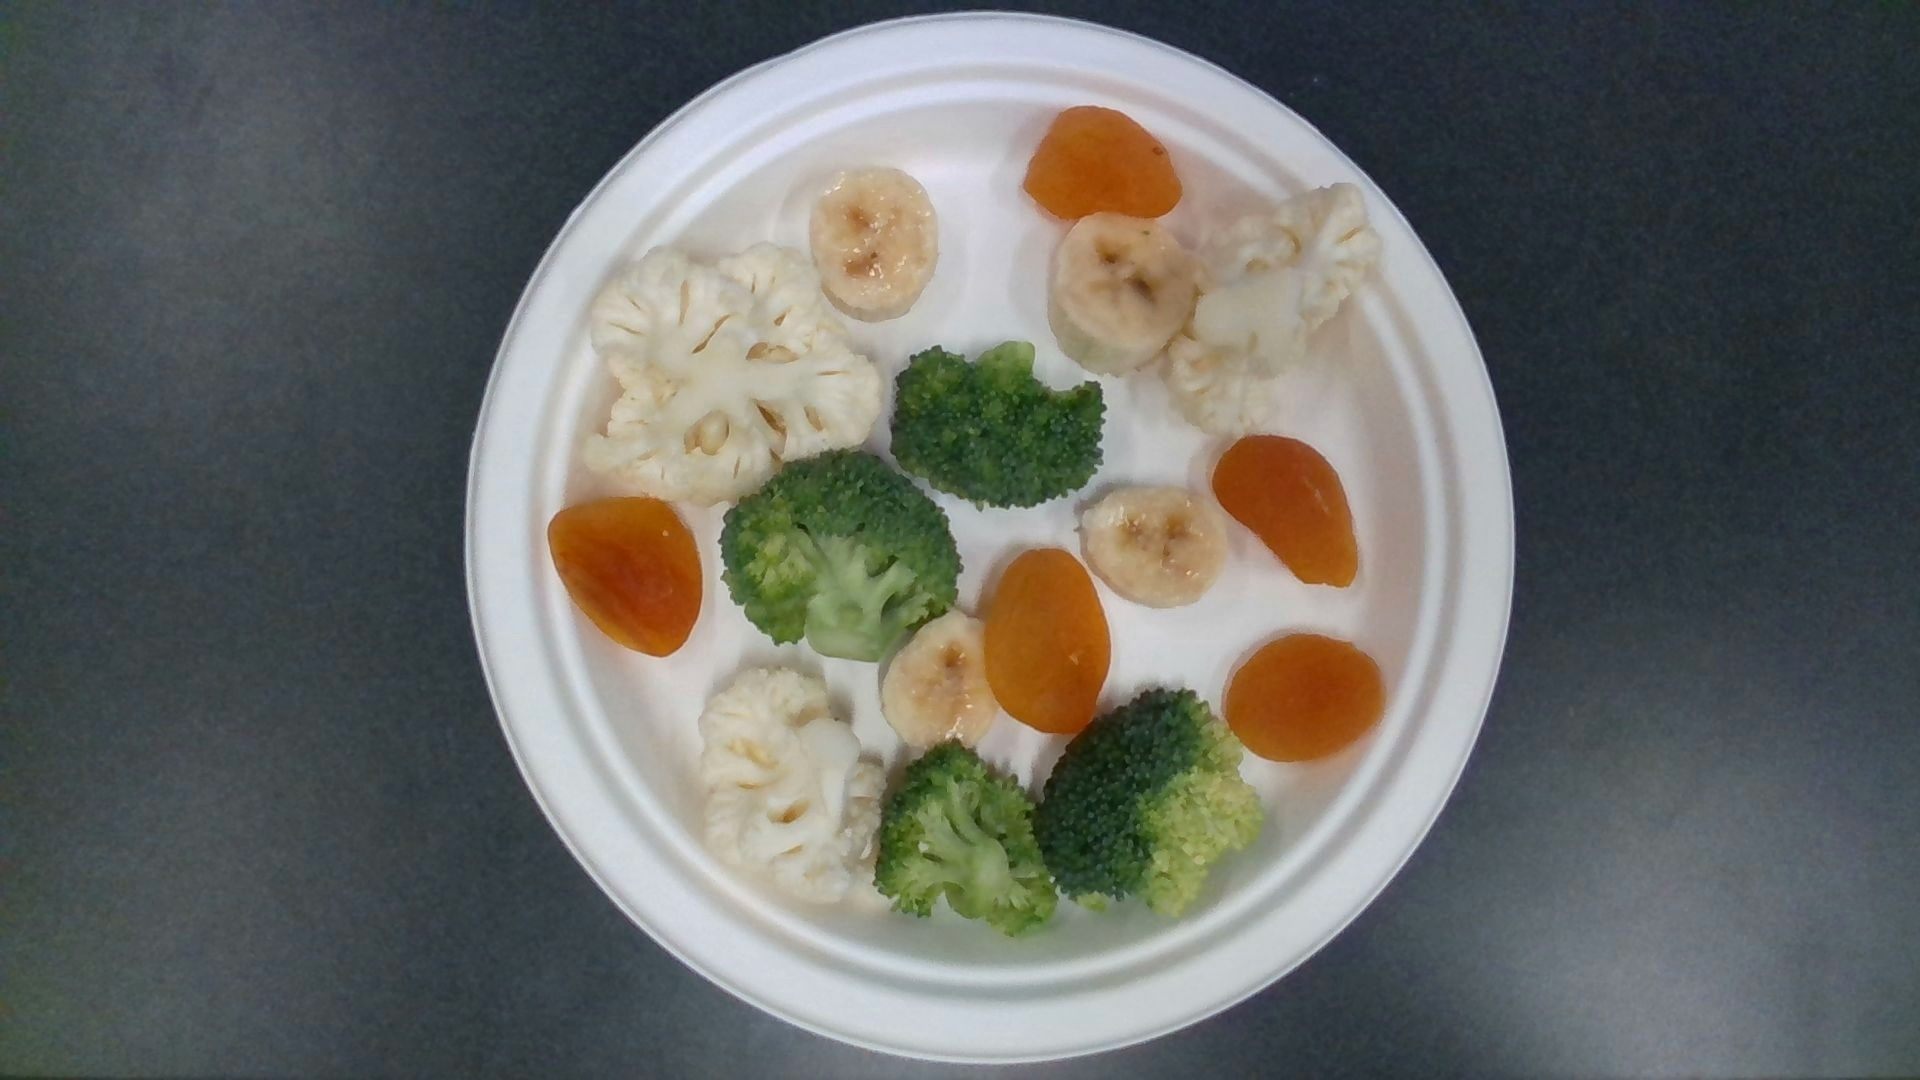apricot: (545, 496, 702, 659), (986, 550, 1110, 731), (1212, 436, 1357, 585), (1225, 633, 1385, 760), (1029, 108, 1179, 225)
banana: (1048, 211, 1193, 367), (812, 170, 938, 318), (1080, 485, 1217, 608), (884, 613, 992, 752)
broccoli: (1039, 690, 1259, 913), (723, 451, 959, 655), (899, 343, 1104, 512), (882, 741, 1055, 935)
cauliflower: (582, 248, 884, 496), (1167, 183, 1379, 435), (699, 666, 884, 915)
